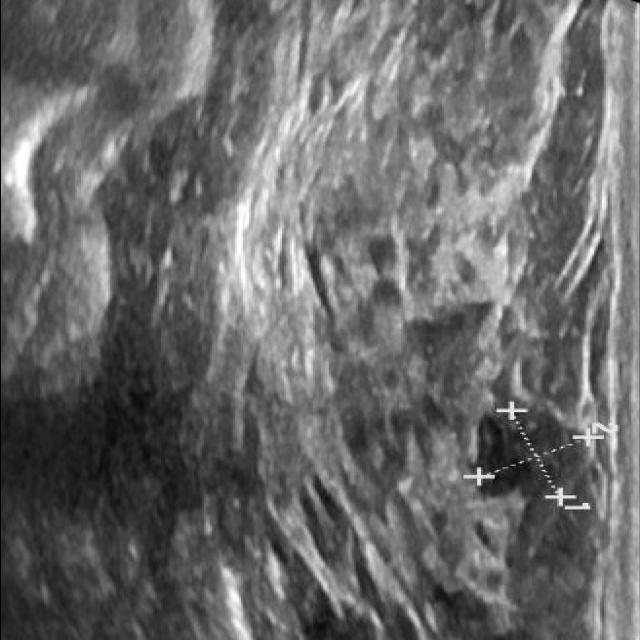Benign: (472, 408, 586, 498)
